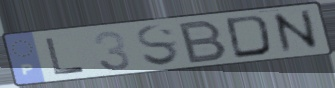3: (93, 29, 132, 71)
B: (178, 18, 230, 65)
D: (223, 13, 274, 60)
L: (42, 36, 88, 76)
N: (268, 7, 324, 56)
S: (134, 23, 183, 68)
